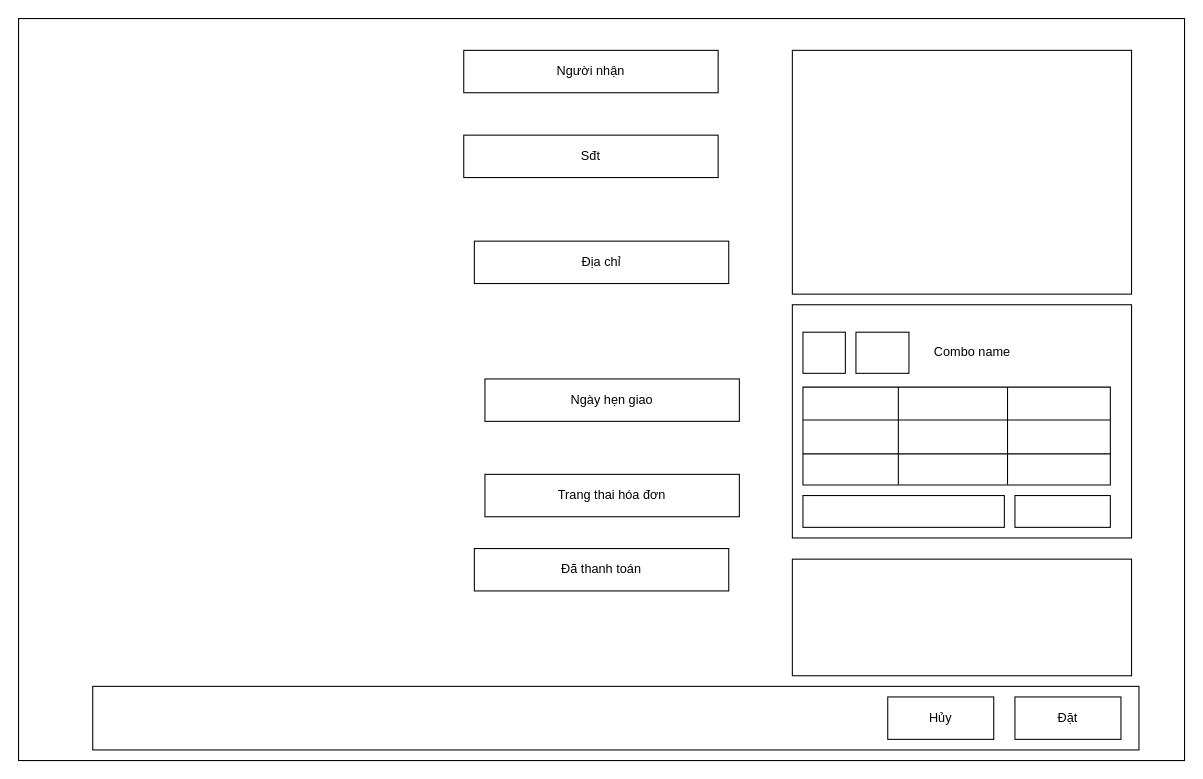
Some shapes in this 1203 by 779 pixel diagram are drawn without their labels. The box of each missing label's shape, as (x1, y1, x2, y2) in pixels:
Tạm tính: Combo: Phí ship: Tổng tiền:: (791, 558, 1132, 676)
Tổng giá trị combo: (802, 494, 1004, 527)
Áp dụng: (1014, 494, 1110, 527)
